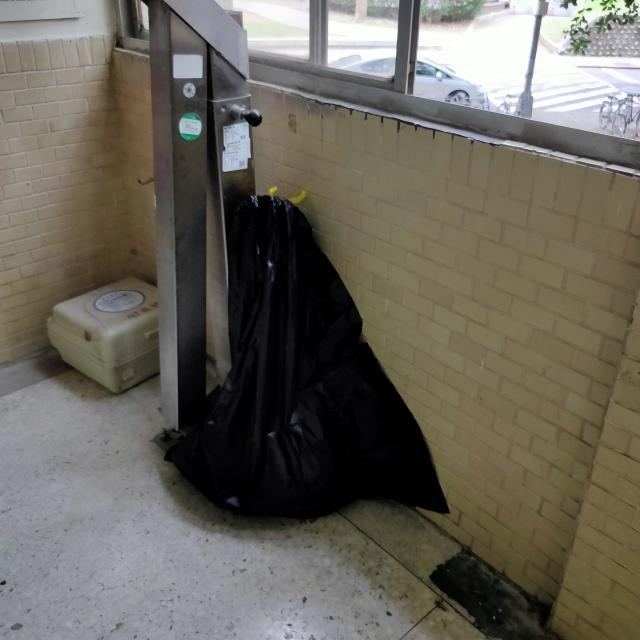Vinyl: (146, 168, 458, 550)
